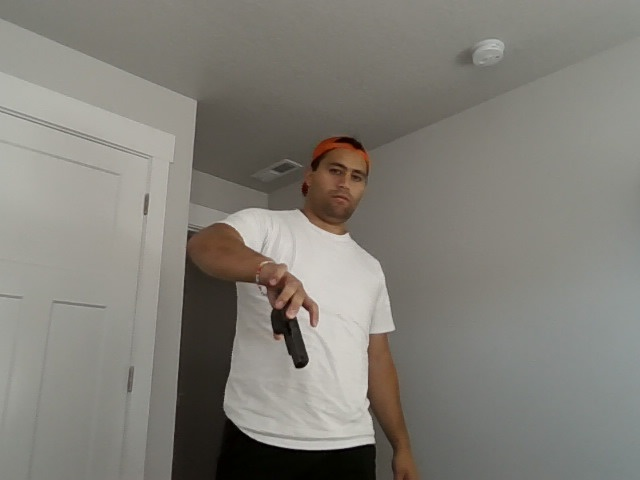handgun: (271, 295, 309, 370)
